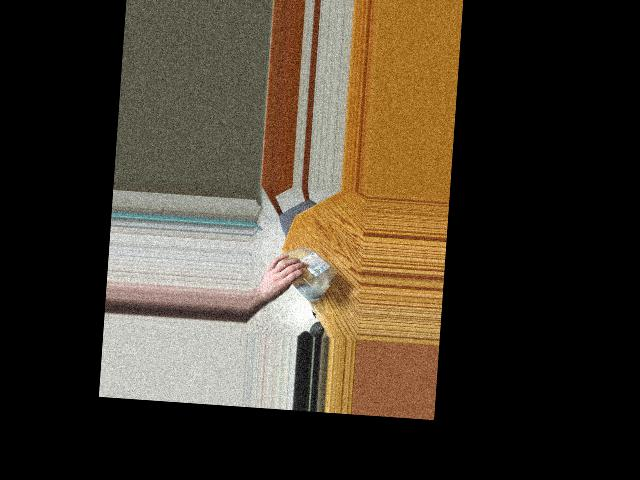cheese: (270, 245, 337, 301)
